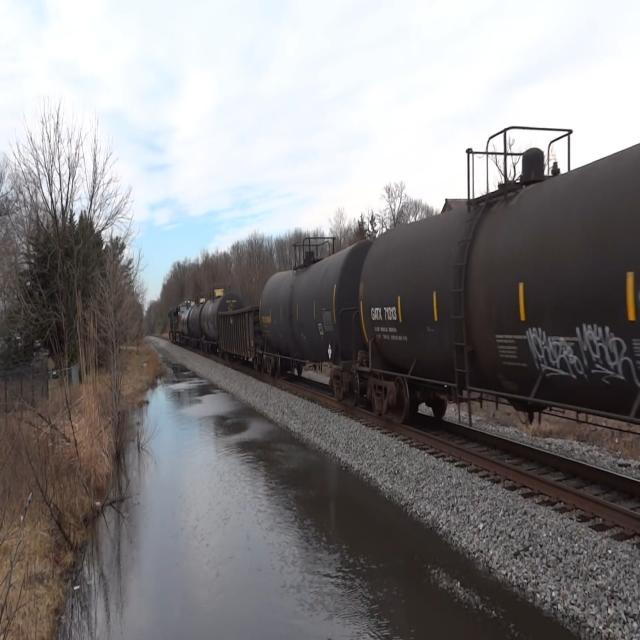gondola: (218, 305, 258, 368)
tank: (356, 111, 640, 468), (255, 230, 374, 407)
